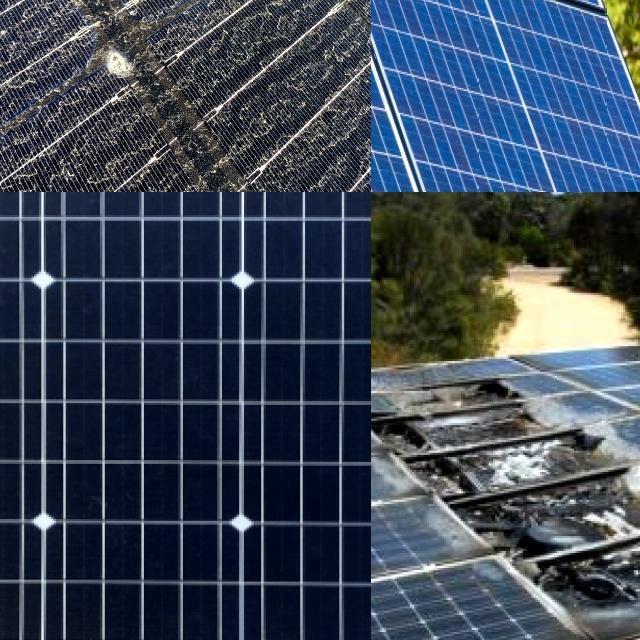bird: (69, 1, 172, 96)
crack: (0, 192, 371, 640), (371, 0, 640, 192)
dust: (155, 0, 327, 124), (0, 0, 138, 81), (70, 152, 258, 192), (158, 0, 347, 30)
shadow: (507, 465, 640, 568), (453, 422, 569, 527), (371, 370, 494, 457), (568, 506, 640, 634), (568, 417, 627, 465)
